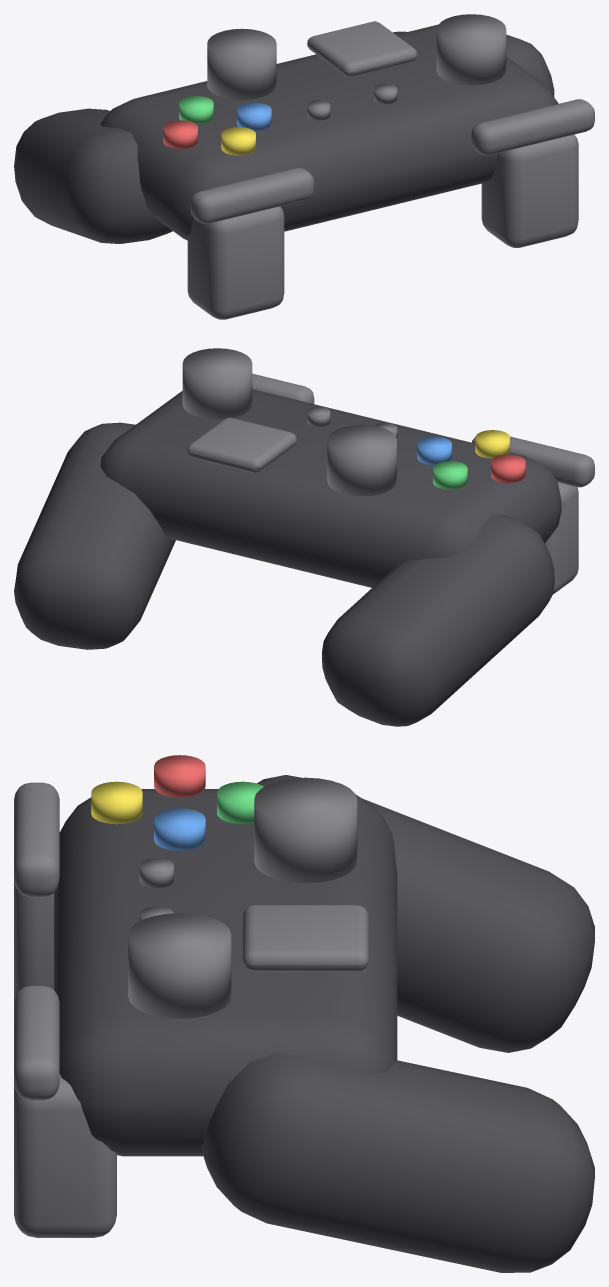
Rendered from gamepad.glb.
3 renders of one model, top to bottom at view 1: azimuth 30°, elevation 25°; view 2: azimuth 150°, elevation 25°; view 3: azimuth 270°, elevation 25°, orthographic. The views are drawn at different scales.
Visible parts, largest first — view 1: body, grip_right, trigger_right, trigger_left, stick_left, stick_right, bumper_right, bumper_left, dpad, grip_left, button_b, button_y (+4 smaller); view 2: body, grip_right, grip_left, stick_left, stick_right, dpad, trigger_right, bumper_right, bumper_left, button_a, button_b, button_x (+1 smaller); view 3: body, grip_left, grip_right, trigger_left, stick_left, stick_right, dpad, bumper_left, bumper_right, trigger_right, button_b, button_y (+3 smaller).
Boxes of the visible parts, x1,y1,x2,y2 form: body: (100,24,558,240); grip_right: (14,108,172,243); trigger_right: (187,206,284,319); trigger_left: (481,134,578,247); stick_left: (436,14,506,85); stick_right: (207,28,276,99); bumper_right: (190,167,314,223); bumper_left: (471,99,594,155); dpad: (307,21,417,76); grip_left: (393,31,554,96); button_b: (163,120,197,148); button_y: (221,127,255,155); body: (100,389,561,587); grip_right: (322,514,554,726); grip_left: (14,422,175,649); stick_left: (182,348,252,419); stick_right: (327,425,396,496); dpad: (187,417,296,472); trigger_right: (545,482,578,594); bumper_right: (472,436,594,487); bumper_left: (252,373,314,403); button_a: (433,461,467,489); button_b: (491,454,525,483); button_x: (417,436,451,465); body: (54,789,397,1156); grip_left: (201,1052,594,1272); grip_right: (257,775,594,1052); trigger_left: (14,1074,116,1237); stick_left: (128,913,231,1018); stick_right: (254,777,357,883); dpad: (242,905,368,971); bumper_left: (14,985,59,1100); bumper_right: (14,782,59,897); trigger_right: (14,832,59,1001); button_b: (154,755,205,797); button_y: (91,781,142,824).
Size of the model in its own units: 0.1422 by 0.0587 by 0.1016.
